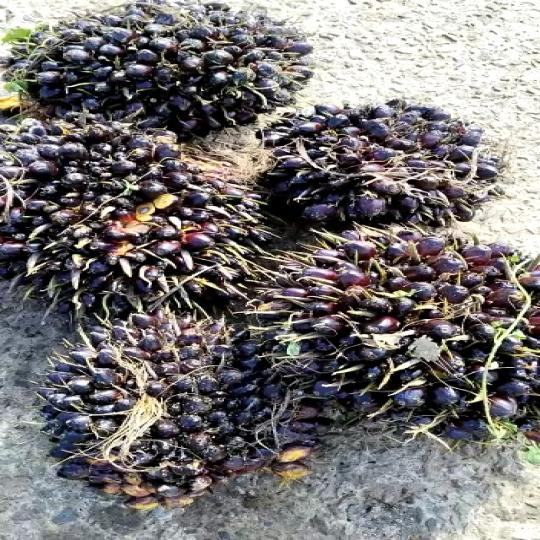kurang masak: (247, 214, 540, 474), (35, 292, 291, 508), (0, 116, 270, 318), (221, 70, 526, 227), (22, 0, 284, 136)
